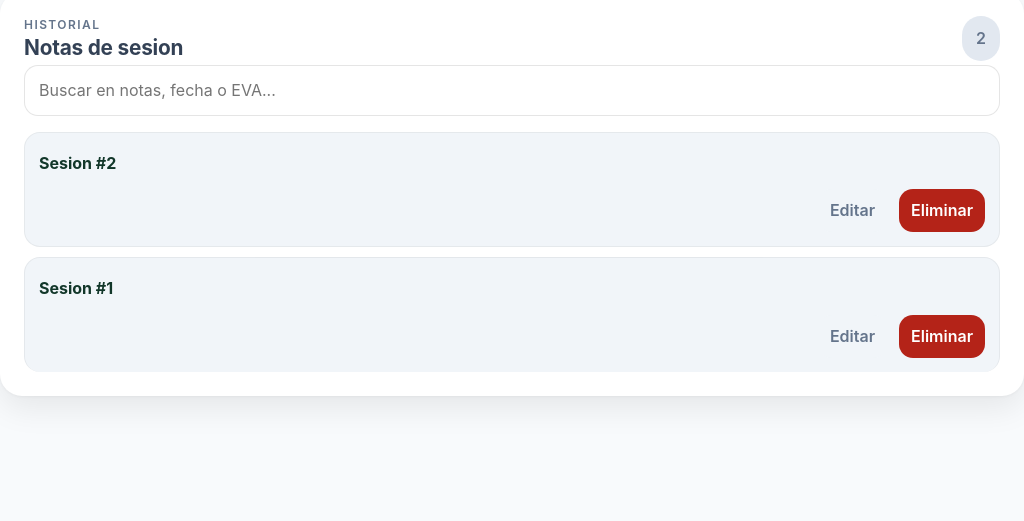
Test: SessionNotesList › expands a note when clicked
Click the button "Sesion #2": [73, 163] box [39, 147, 985, 179]
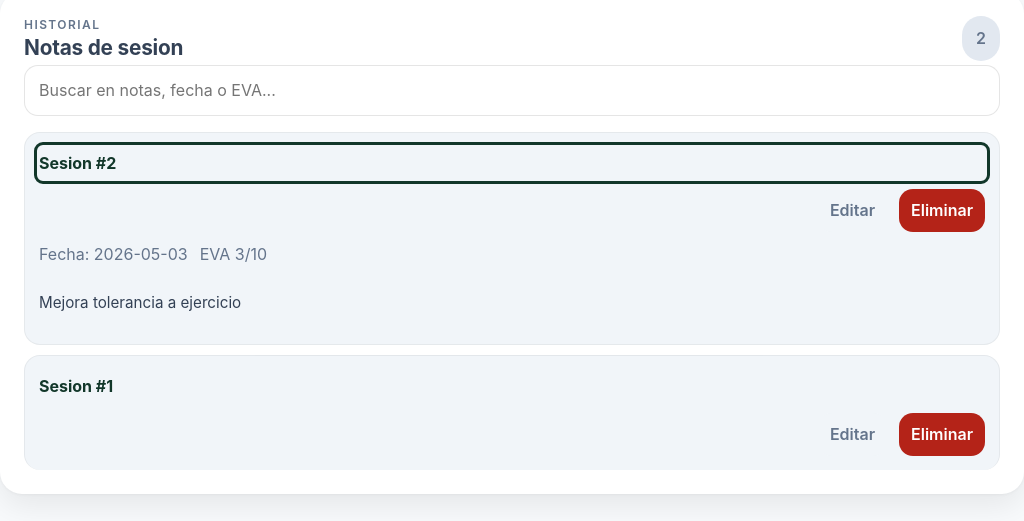
Expected: the text "Mejora tolerancia a ejercicio" is shown, [39, 293, 241, 312]
